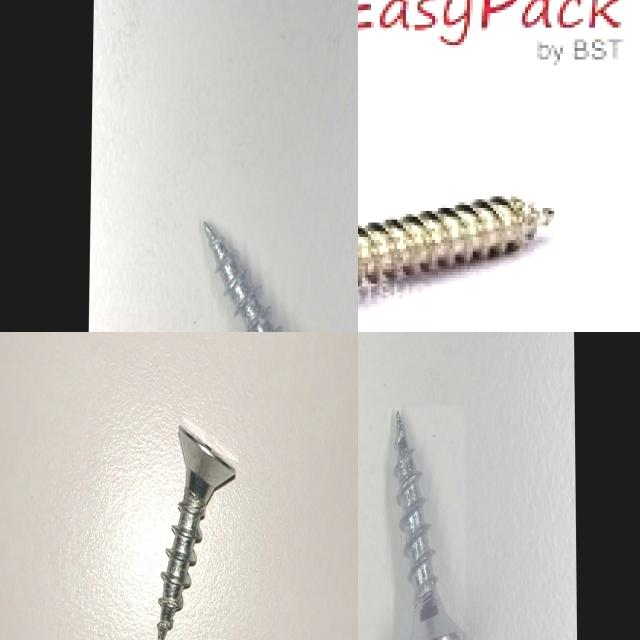Screw: (358, 196, 554, 288), (157, 425, 236, 640), (394, 410, 467, 640), (204, 221, 282, 332)
